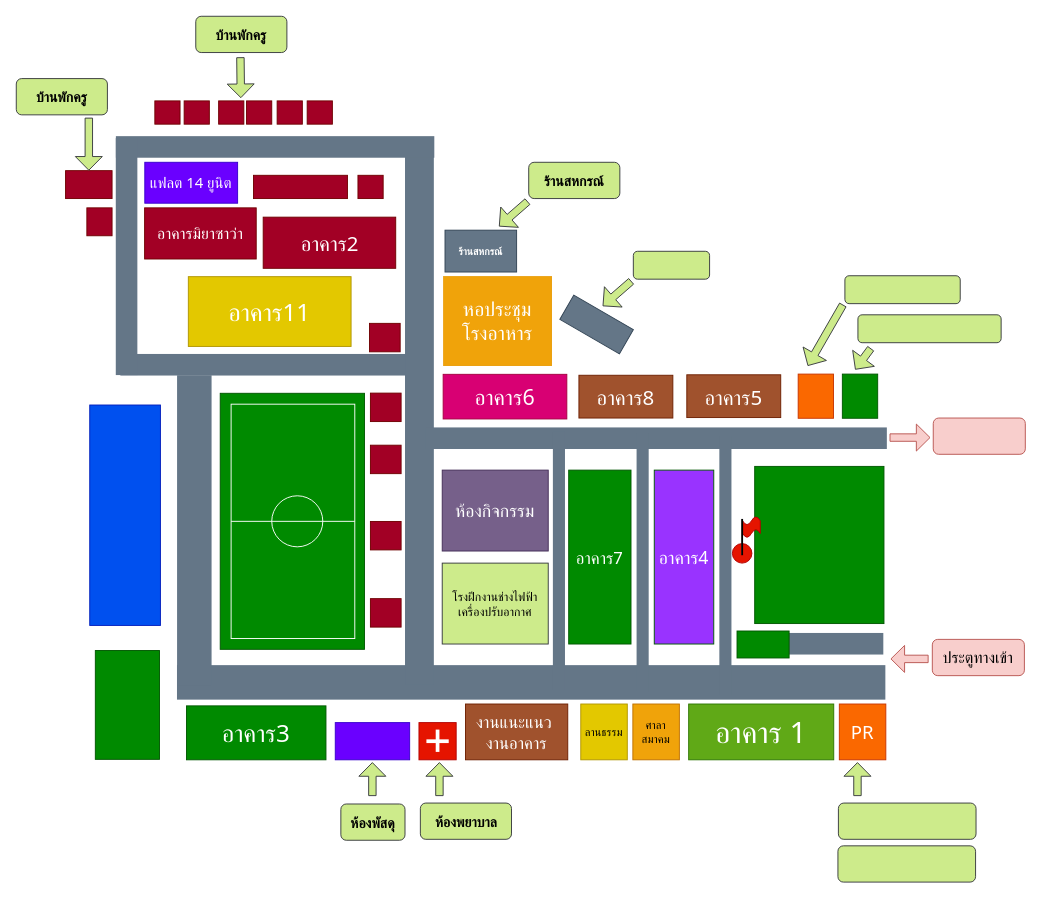
Some shapes in this 1042 by 898 pixel diagram are drawn without their labels. Each missing label, with the centre of its shape:
"FIX IT CENTER" goes at point (902, 289).
"ประตูทางออก" goes at point (978, 435).
"พระวิษณุ" goes at point (762, 644).
"สวนพฤษศาสตร์โรงเรียน" goes at point (372, 741).
"ห้องปกครอง" goes at point (906, 863).
"ห้องประชาสัมพันธ์" goes at point (906, 820).
"อาคาร10" goes at point (124, 514).
"อาคาร9" goes at point (126, 704).
"เทคนิคเลย คาร์แคร์" goes at point (929, 328).
"โดมเอนกประสงค์" goes at point (819, 544).
"โรงงานงานสี ช่างยนต์" goes at point (671, 264).
